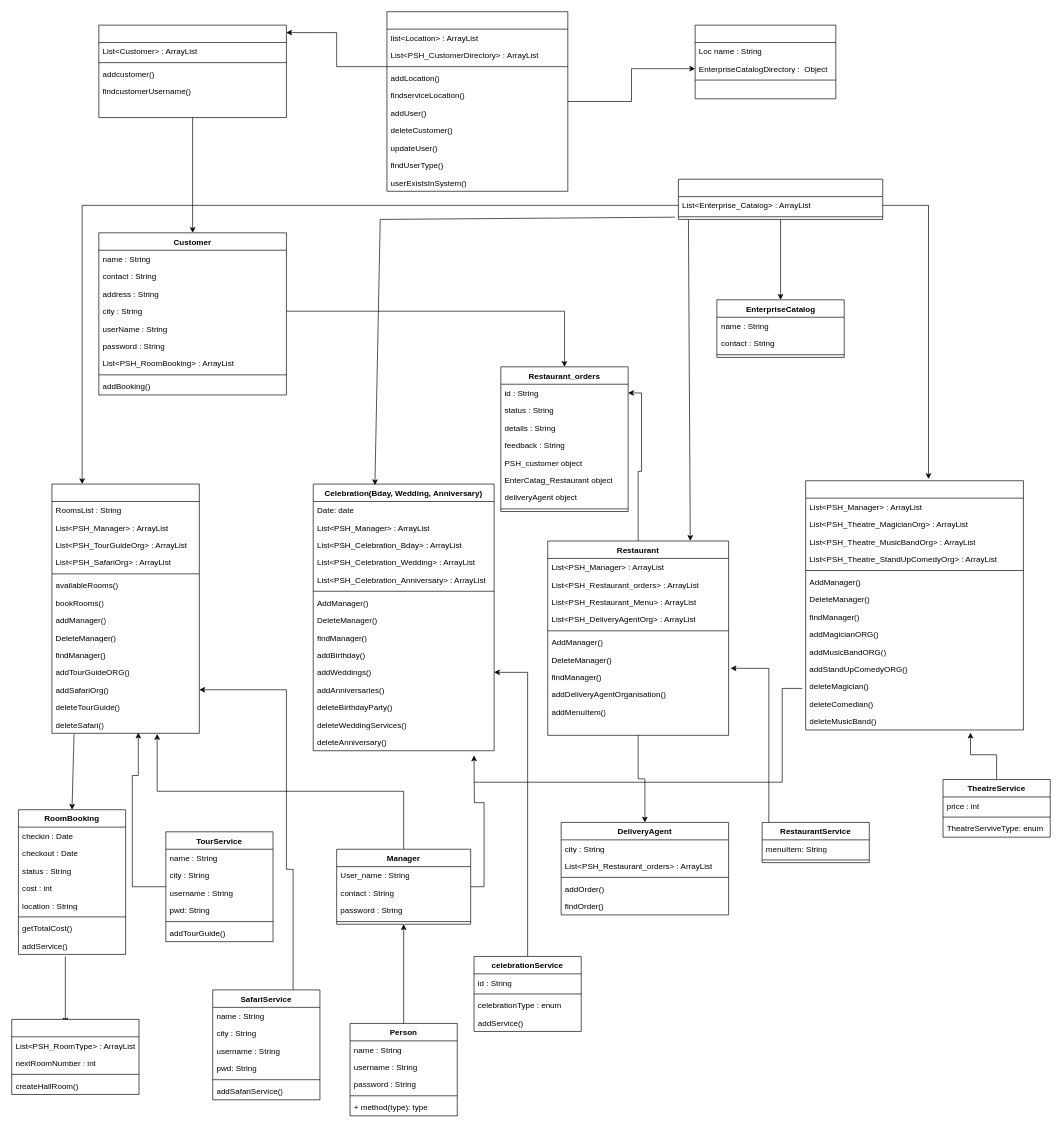
Some shapes in this 1062 by 1130 pixel diagram are drawn without their labels. Here are the shapes that lost their labels. From the top down, the box of each, then its label:
(98, 24, 286, 118): CustomerDirectory
(694, 24, 836, 99): Location
(386, 11, 568, 191): PSH_Business
(678, 179, 883, 219): EnterpriseCatalogDirectory
(51, 483, 199, 733): Hotel
(805, 480, 1023, 730): Theatre(Magician, Music Band, Standup Comedy)
(11, 1019, 139, 1094): RoomsList
